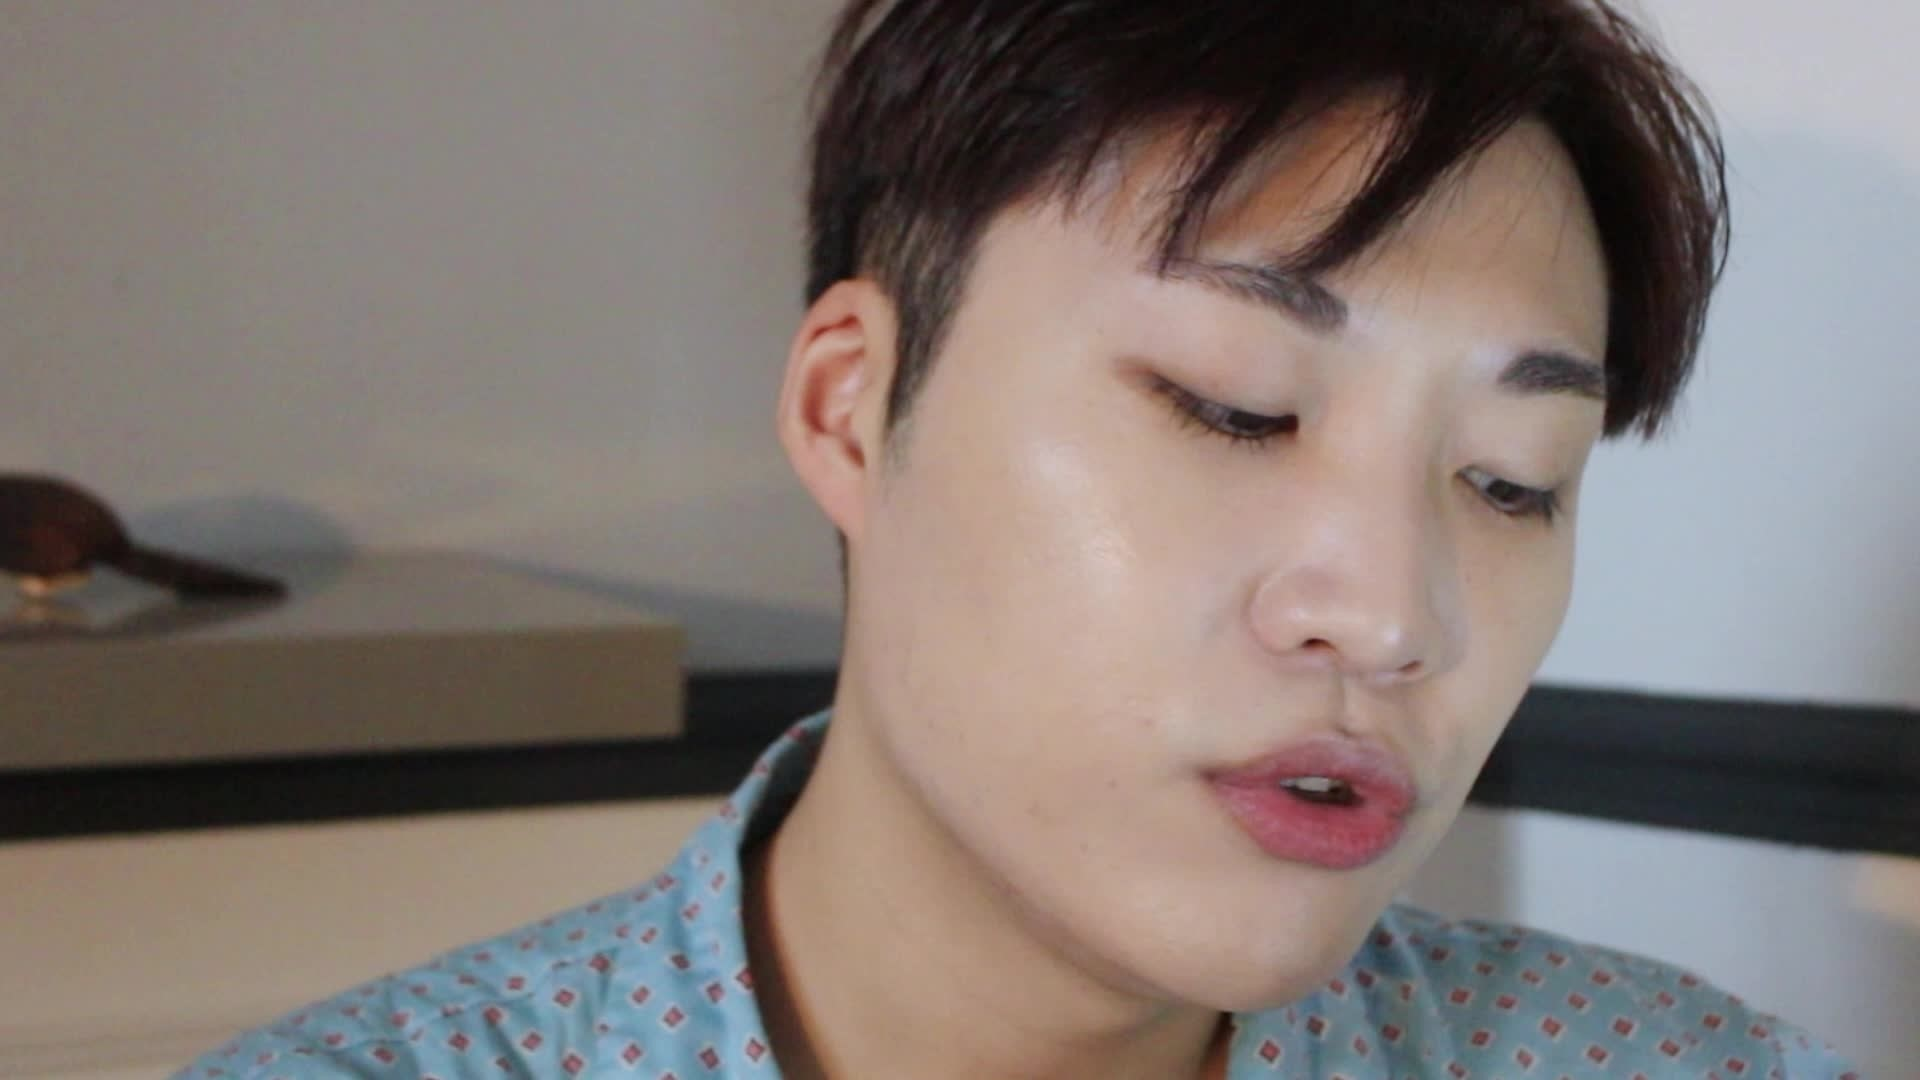face_no_mask: (777, 3, 1642, 1006)
